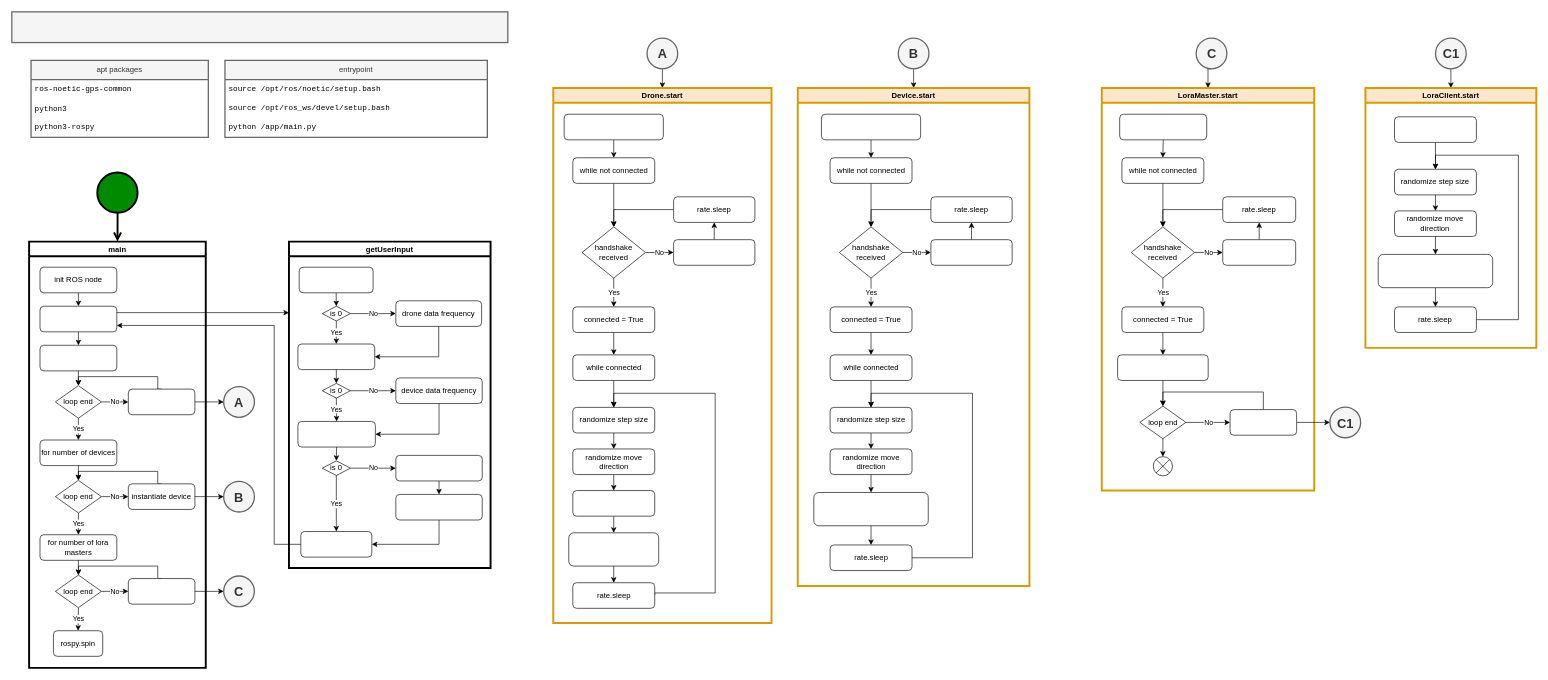
Some shapes in this 1548 by 680 pixel diagram are drawn without their labels. Each missing label, with the centre of its shape:
Aiders Simulator: the point at 259,27
for number of drones: the point at 78,358
for number of lora clients: the point at 1162,367
get user input: the point at 78,319
instantiate drone: the point at 161,401
instantiate lora client: the point at 1263,422
instantiate lora master: the point at 161,591
lora data frequency: the point at 438,507
number of devices: the point at 336,356
number of drones: the point at 336,280
number of lora clients per master: the point at 438,468
number of lora masters: the point at 336,434
publish message to /deviceIds: the point at 971,252
publish message to /droneIds: the point at 714,252
publish message to /loraIds: the point at 1259,252
publish telemetry message in /{deviceName}/DeviceTelemetry: the point at 870,509
publish telemetry message in /{droneName}/Telemetry: the point at 613,549
publish telemetry message in /{loraName}/loremetry: the point at 1435,271
randomize heading: the point at 613,503
return user input: the point at 336,544
subscribe to /{deviceName}/handshake: the point at 871,127
subscribe to /{droneName}/handshake: the point at 613,127
subscribe to /{loraName}/handshake: the point at 1163,127
while true: the point at 1435,129
